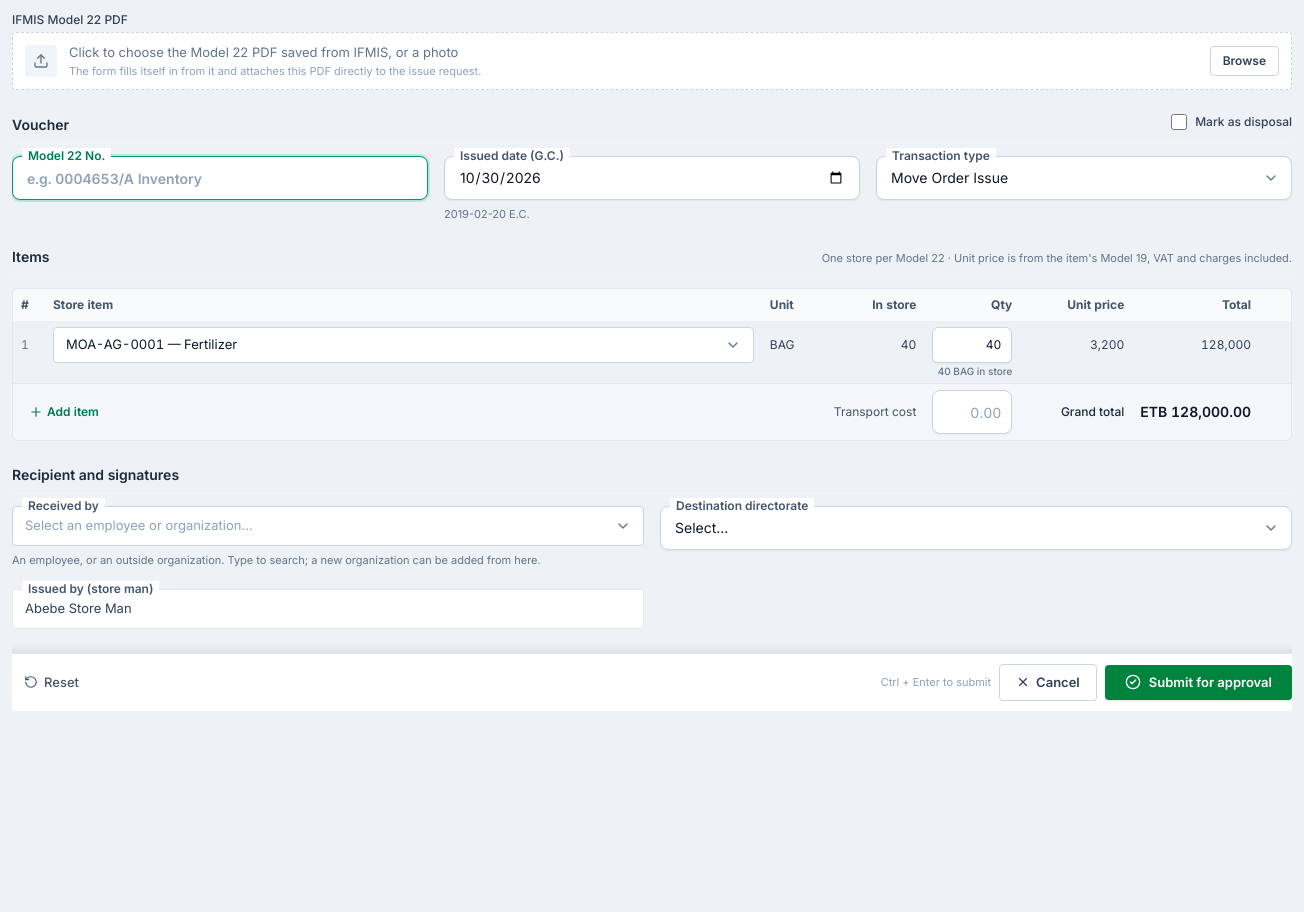
Test: Issue items (Model 22): what stops Submit, said once by the button › says once when more is asked than is in store, and opens that quantity
Click the dropdown named "Received by" at (139, 525), box [12,506,644,546]
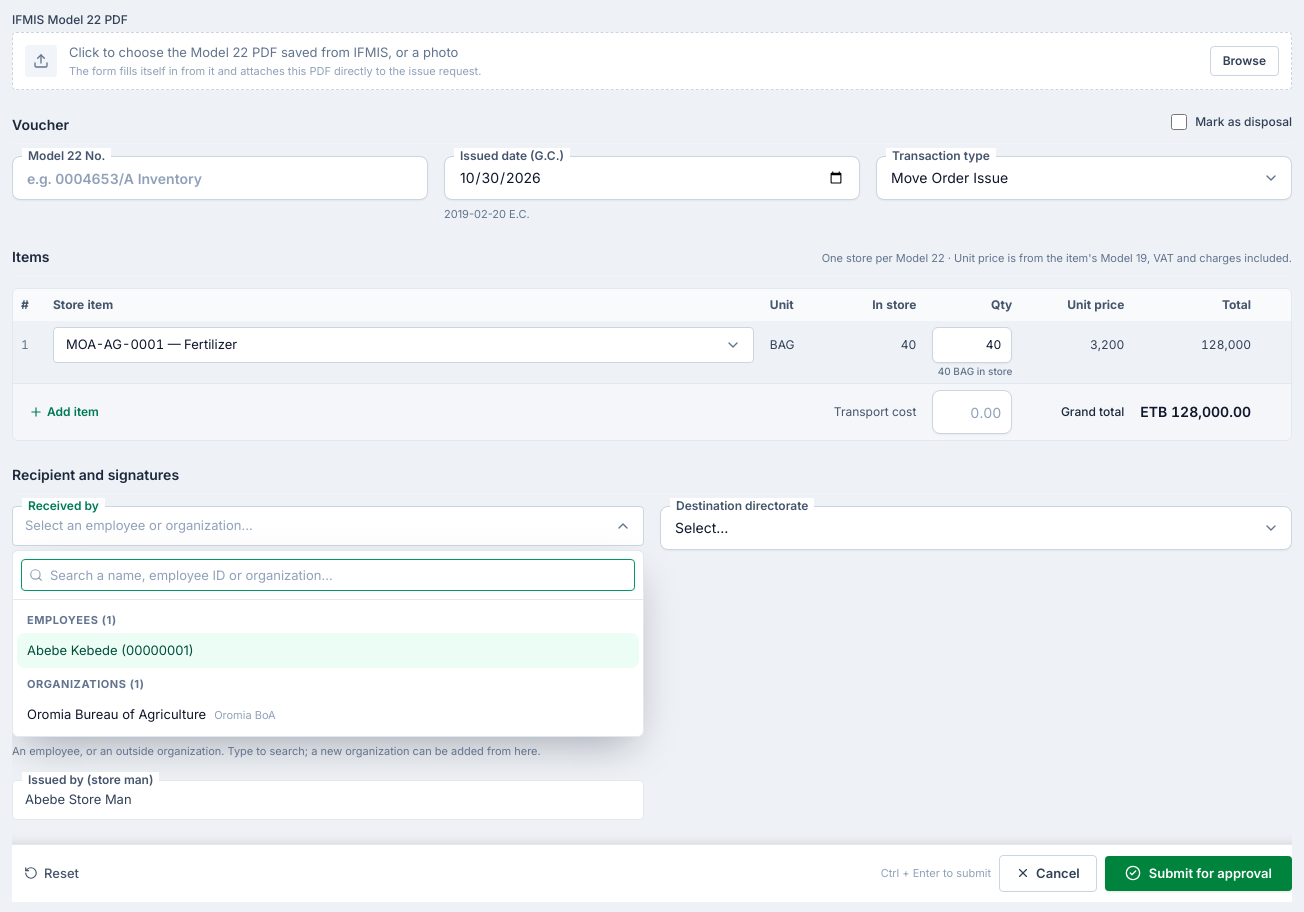
Click the option "Abebe Kebede (00000001)" at (110, 650), box [17,632,639,668]
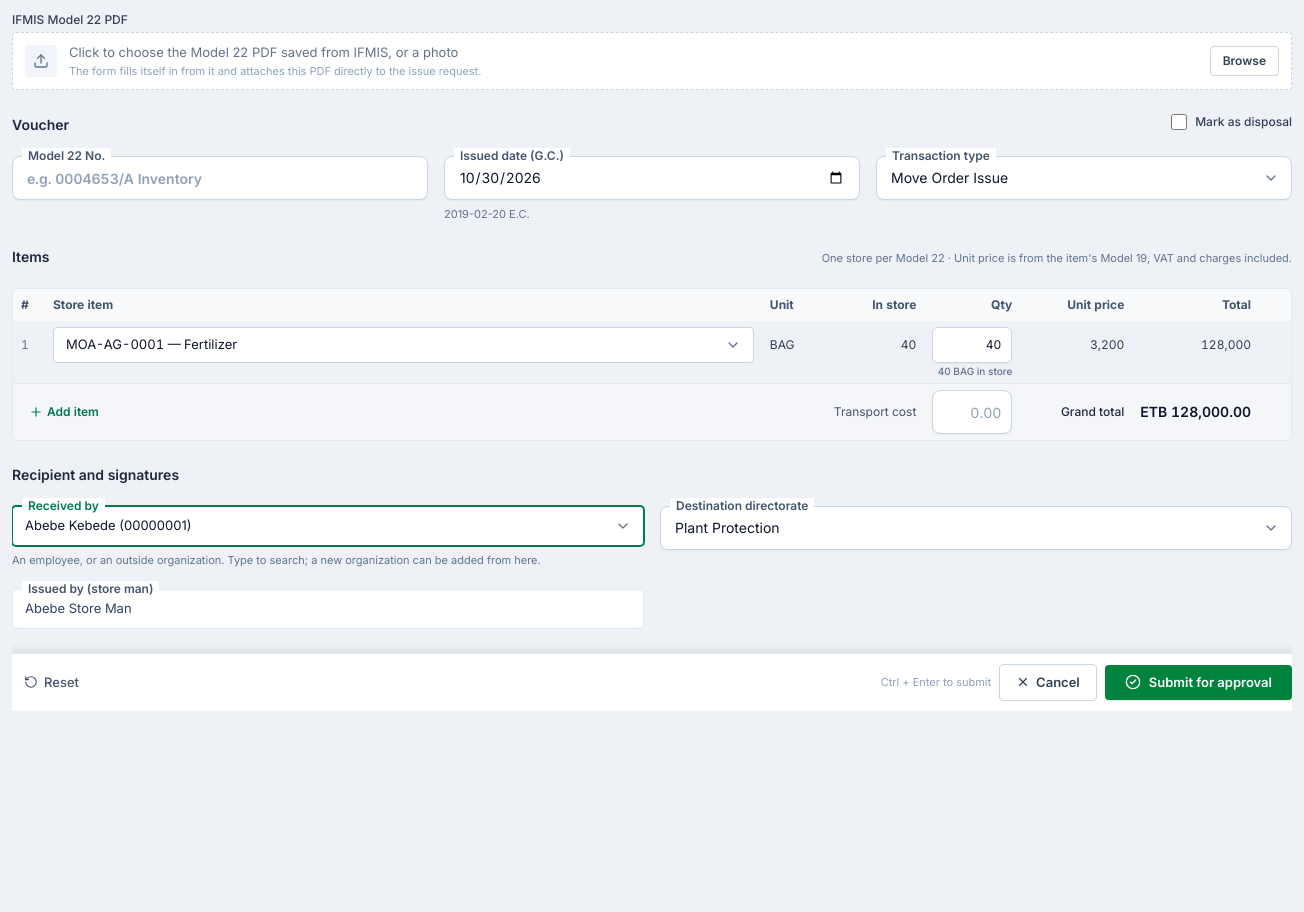
Clear the field named "Quantity to issue" at (972, 344), box [932,326,1012,362]
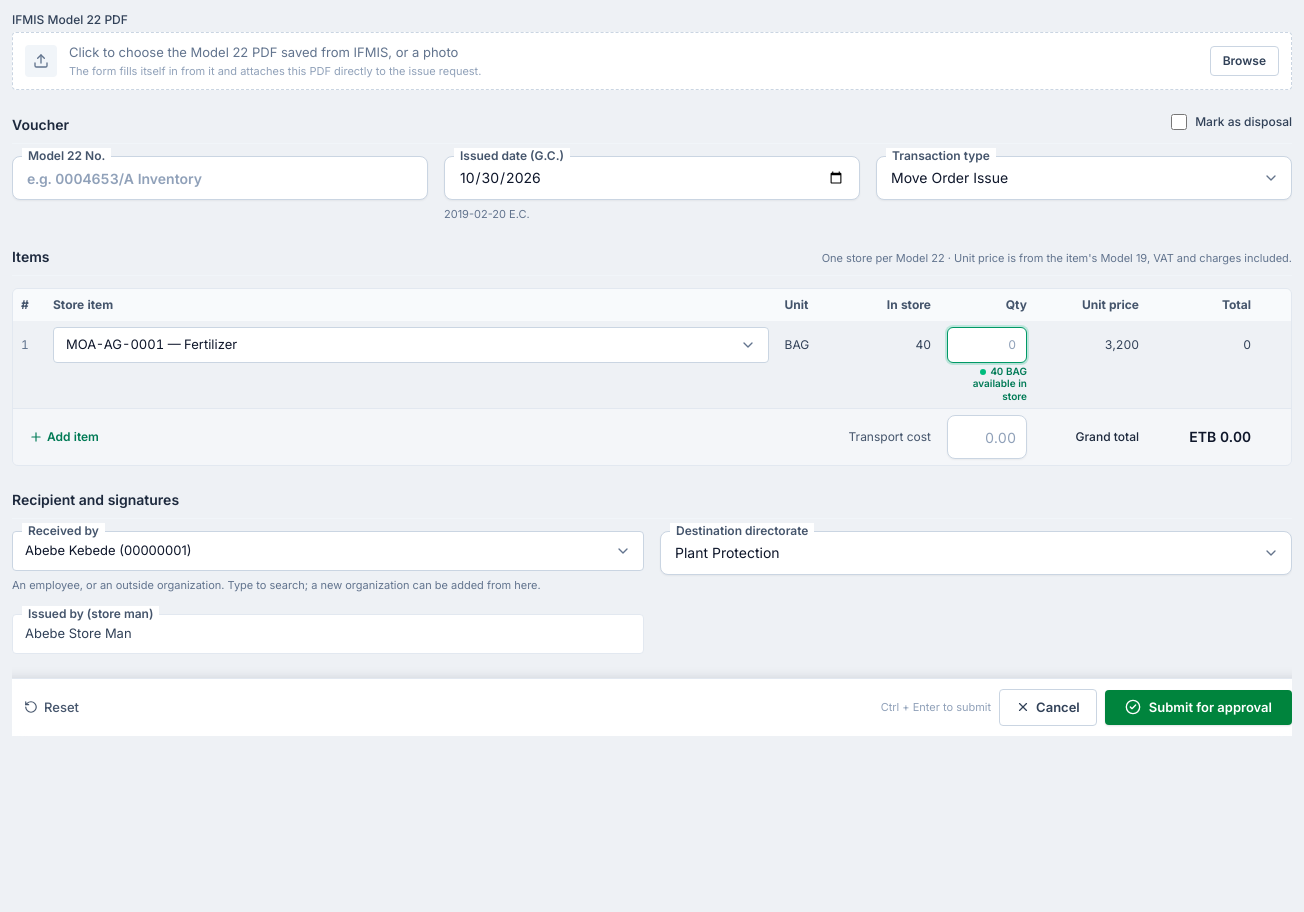
Type "50" into the field named "Quantity to issue" at (987, 344), box [947,326,1027,362]
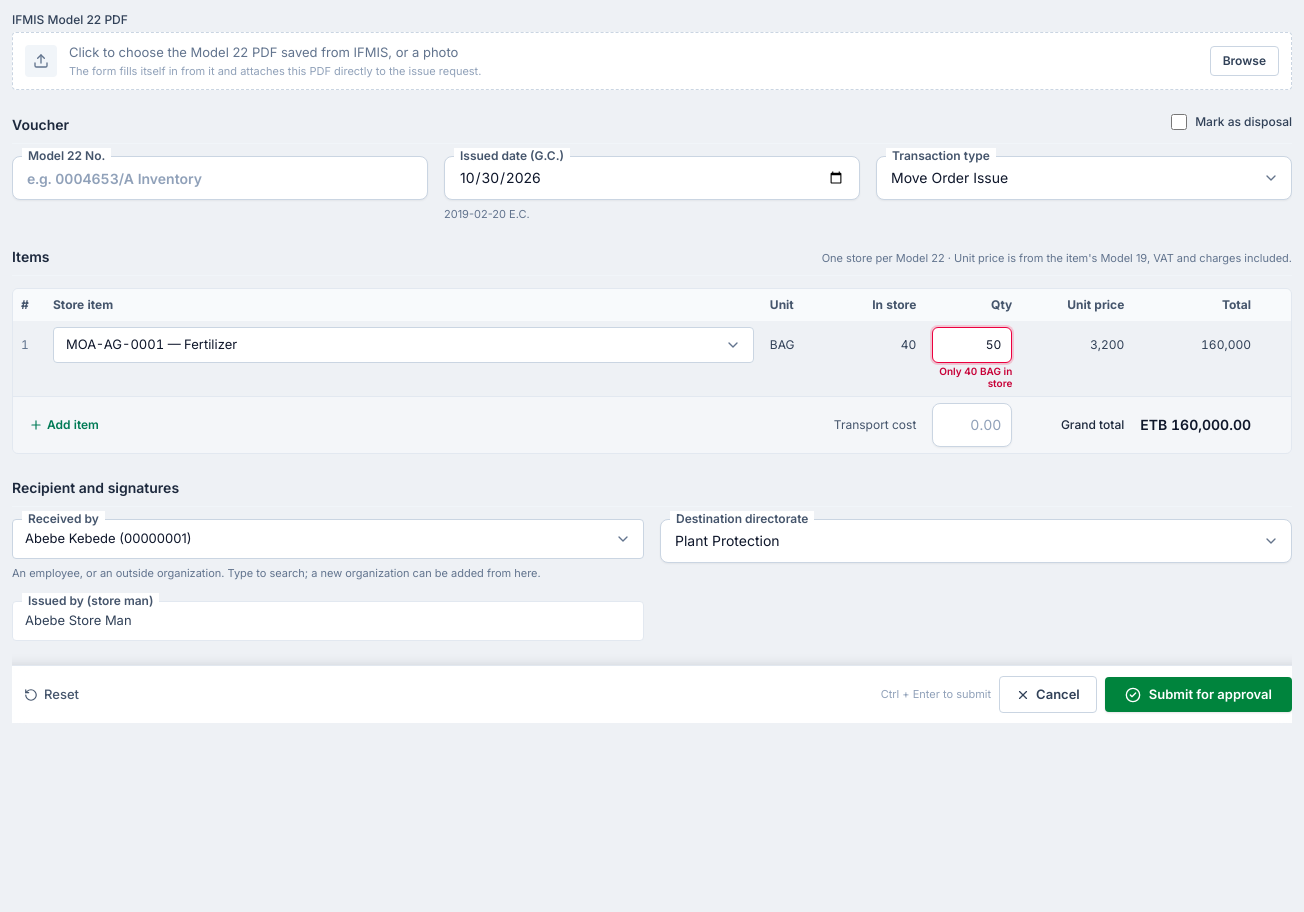
Click the button "Submit for approval" at (1198, 695), box [1105,677,1292,712]
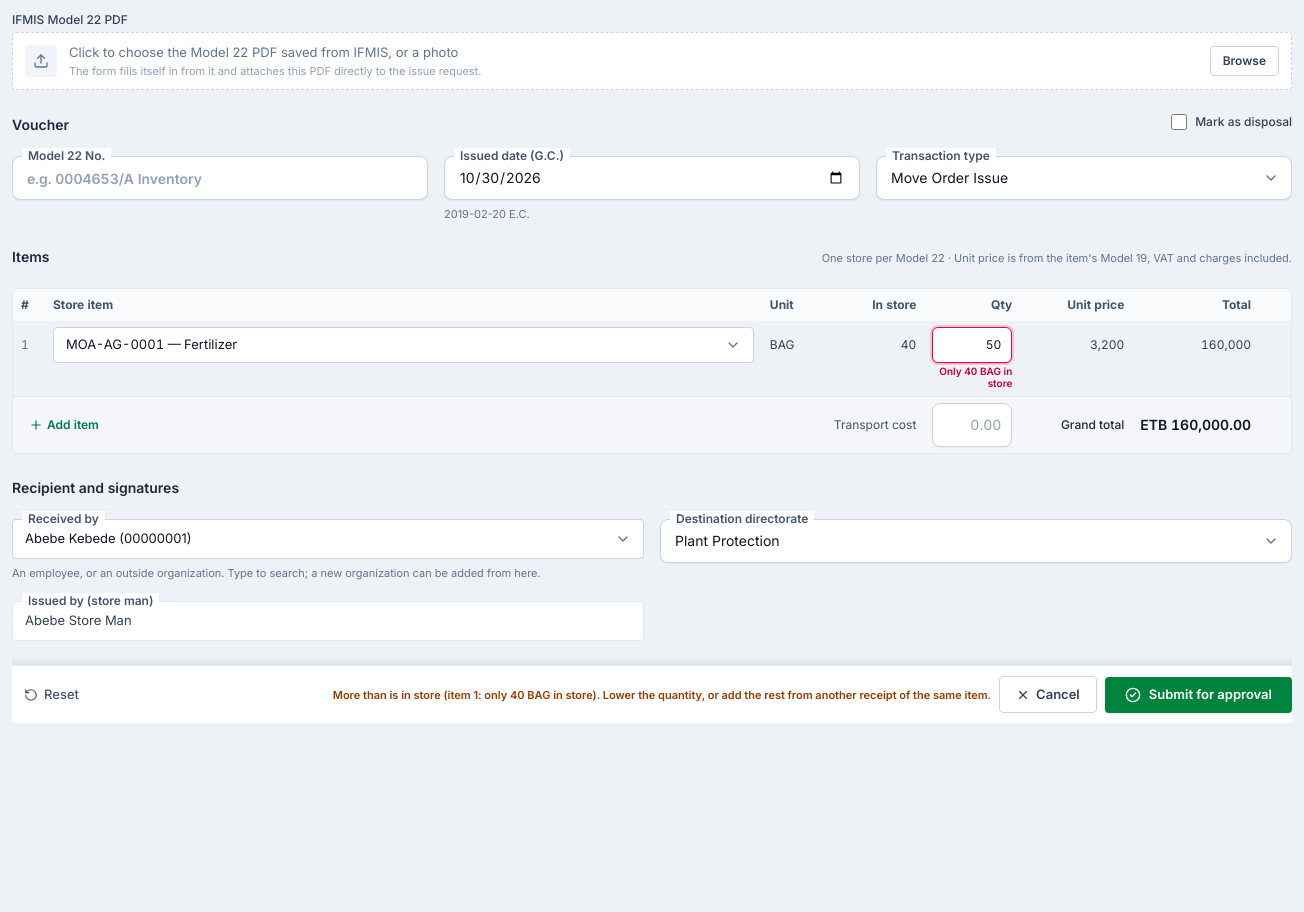
Expected: the text "More than is in store (item 1: only 40 BAG in store)" is shown once, [333,688,991,702]
